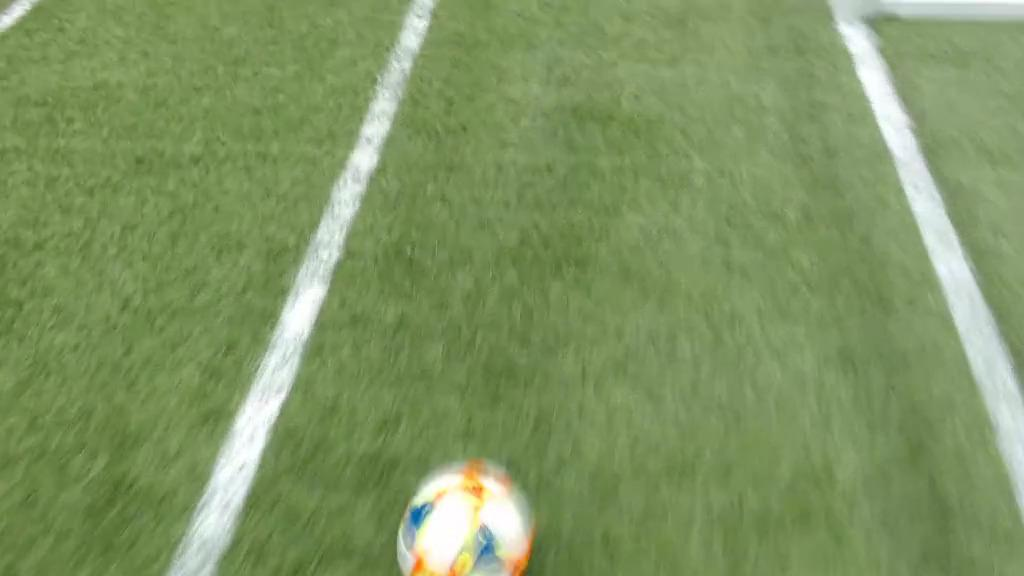ball: (397, 474, 528, 576)
